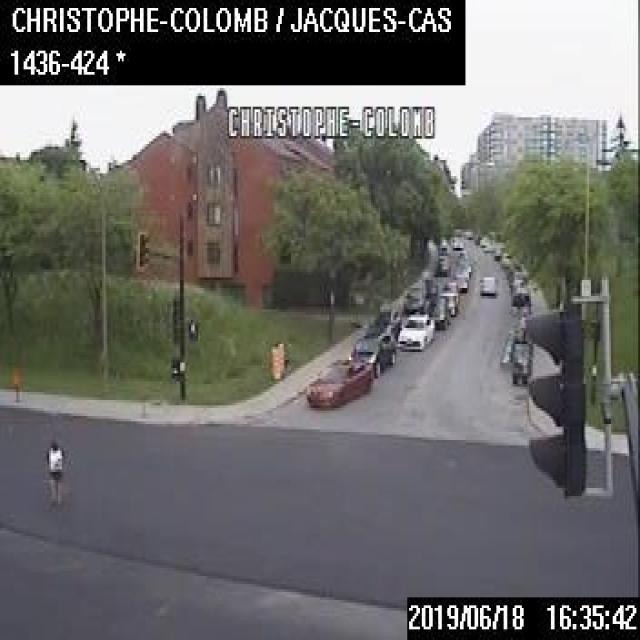construction: (269, 344, 280, 378), (275, 339, 285, 374), (12, 365, 21, 400)
pedestrian: (42, 437, 64, 507)
vehicle: (306, 357, 371, 406), (346, 330, 395, 372), (396, 311, 433, 348), (368, 303, 401, 334), (423, 296, 449, 326), (401, 286, 428, 314), (510, 348, 527, 381), (510, 284, 530, 311), (438, 280, 458, 304), (454, 248, 471, 275), (506, 260, 526, 282), (439, 290, 456, 314), (451, 265, 468, 287), (432, 253, 449, 274), (478, 272, 495, 293), (492, 240, 508, 258), (419, 276, 436, 292), (498, 250, 512, 266), (507, 276, 523, 290), (450, 234, 462, 247), (436, 240, 447, 254)
